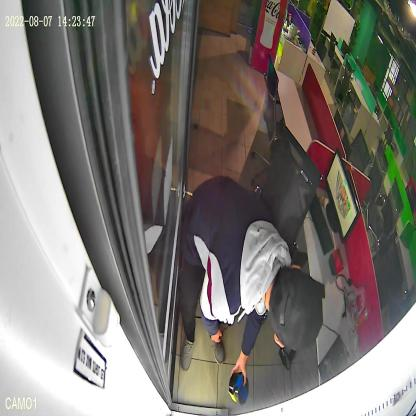blue: (235, 374, 249, 406)
yellow: (229, 370, 243, 403)
